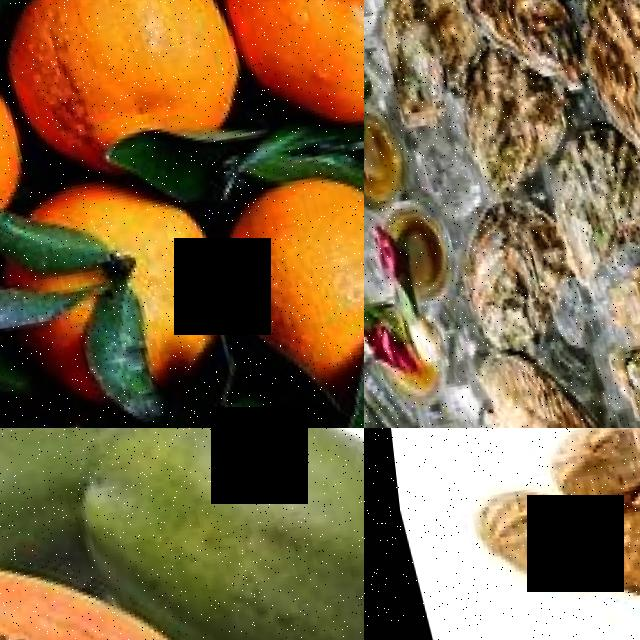orange: (0, 166, 236, 413), (0, 0, 247, 165), (201, 164, 364, 363), (204, 0, 364, 138)
oysters: (443, 30, 572, 193), (443, 198, 581, 338), (533, 120, 640, 270), (458, 336, 597, 428), (567, 0, 640, 164), (442, 0, 579, 65), (364, 0, 478, 73), (587, 249, 640, 389)
pawpaw: (93, 428, 364, 640), (0, 428, 107, 599), (0, 565, 241, 640)
peanuts: (448, 480, 576, 605), (530, 428, 640, 507)
